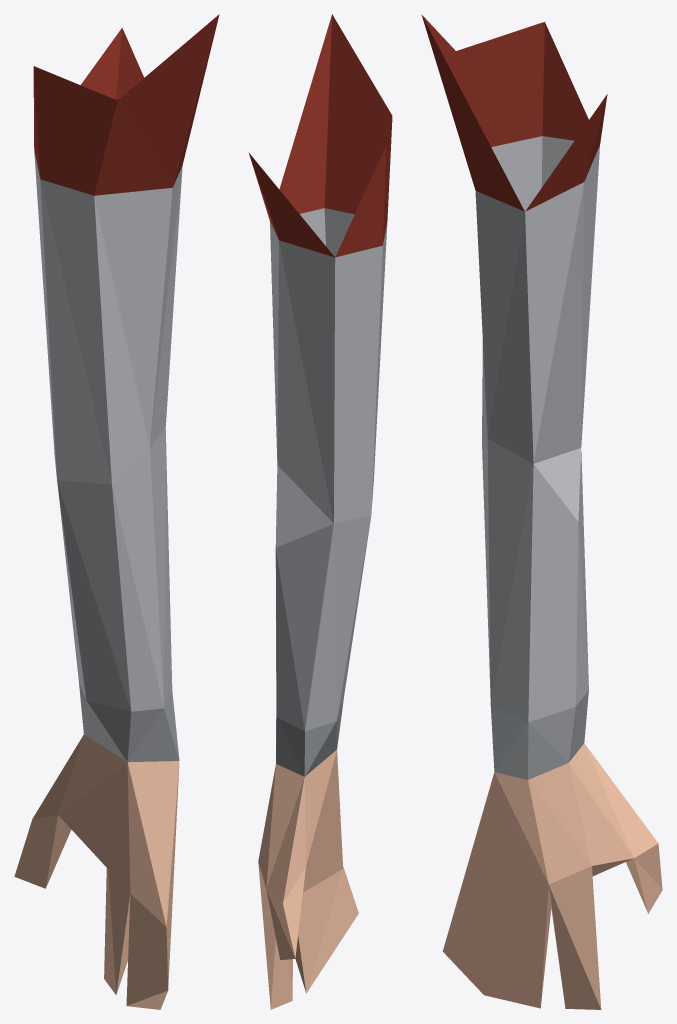
File: ArmR.obj
3 renders of one model, left to right at view 1: azimuth 30°, elevation 25°; view 2: azimuth 150°, elevation 25°; view 3: azimuth 270°, elevation 25°, orthographic. The views are drawn at different scales.
Bounding box in the file's own units: 0.1269 × 0.8981 × 0.1945.
1 material, 1 textured.
